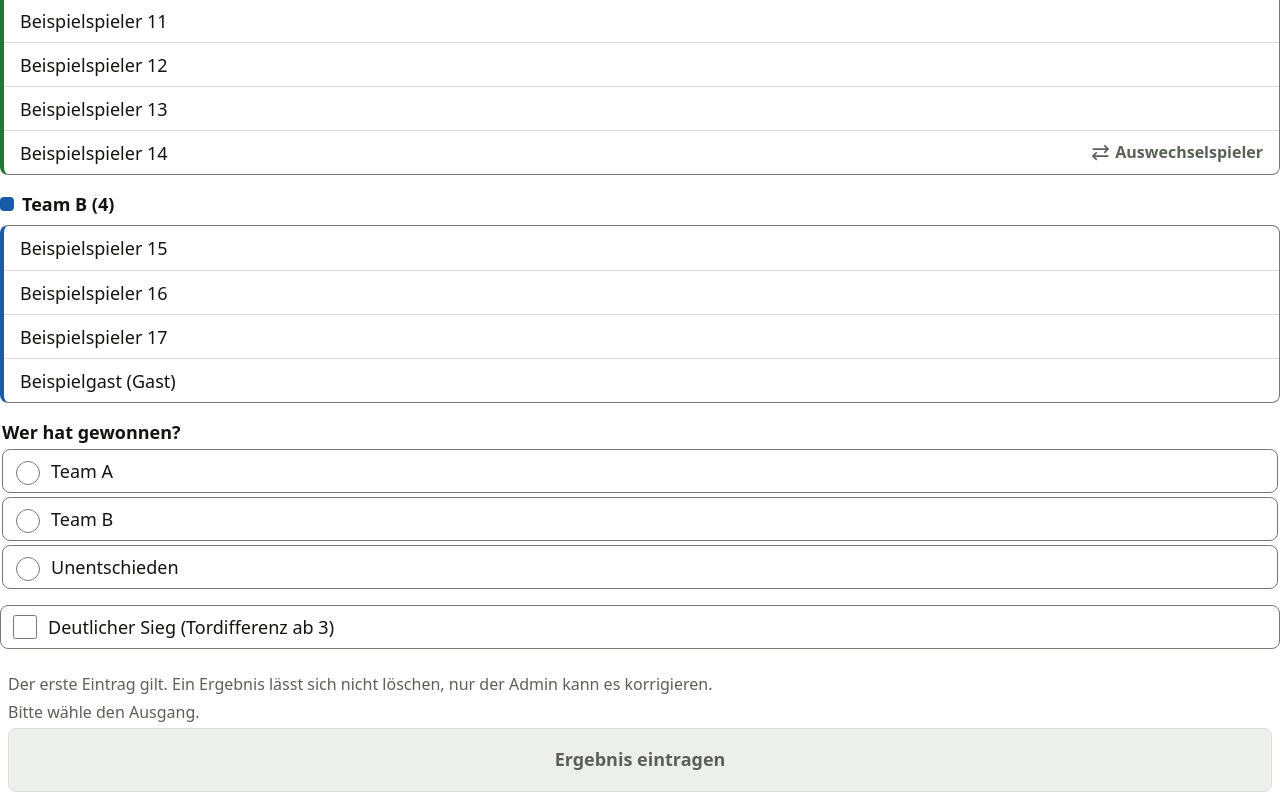
Test: ErgebnisSeite: Eintragen › traegt ein, zeigt die Anzeige mit Hinweis, setzt den Fokus und aktualisiert die Bilanz
(page scrolled)
Click the radio button with test id "ergebnis-sieger-a" at (28, 473), box [16,461,40,485]
(page scrolled)
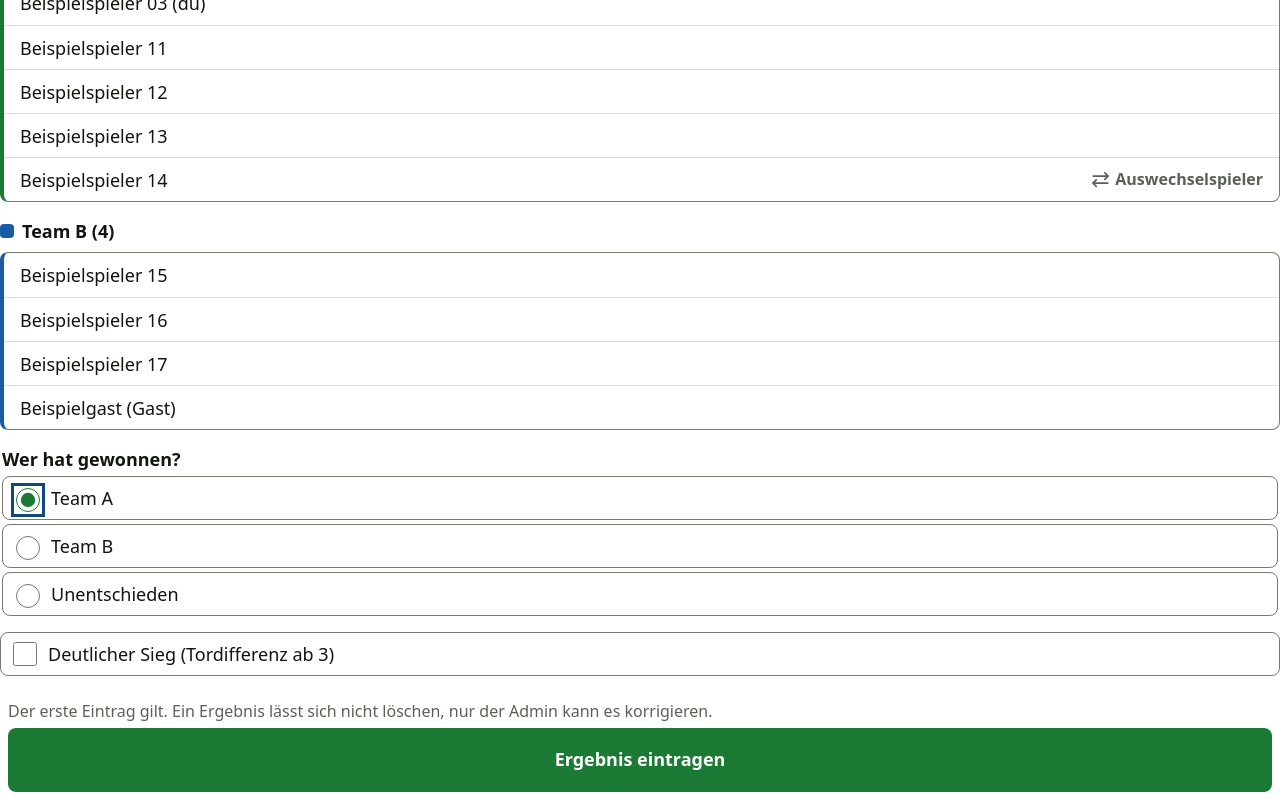
Click the button with test id "ergebnis-absenden" at (640, 760), box [8,728,1272,792]
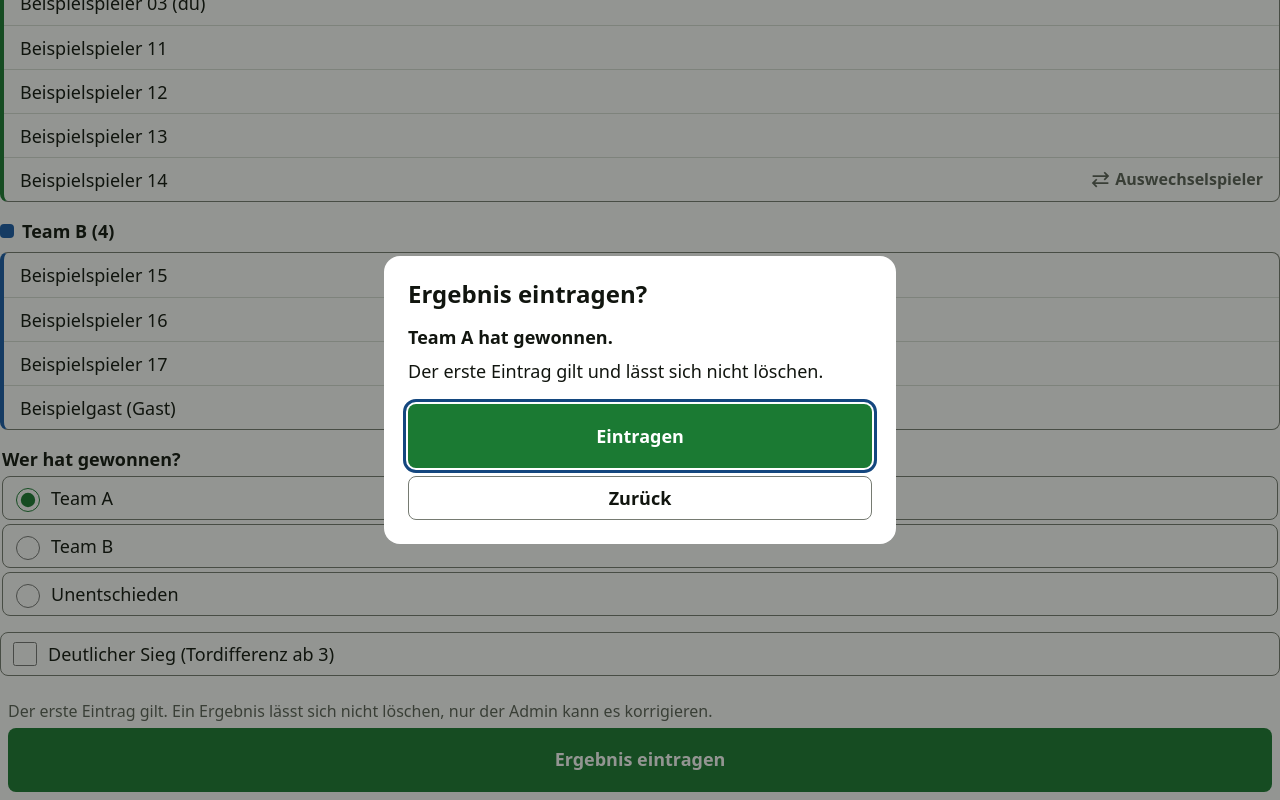
Click the button with test id "ergebnis-bestaetigen" at (640, 436), box [408,404,872,468]
(page scrolled)
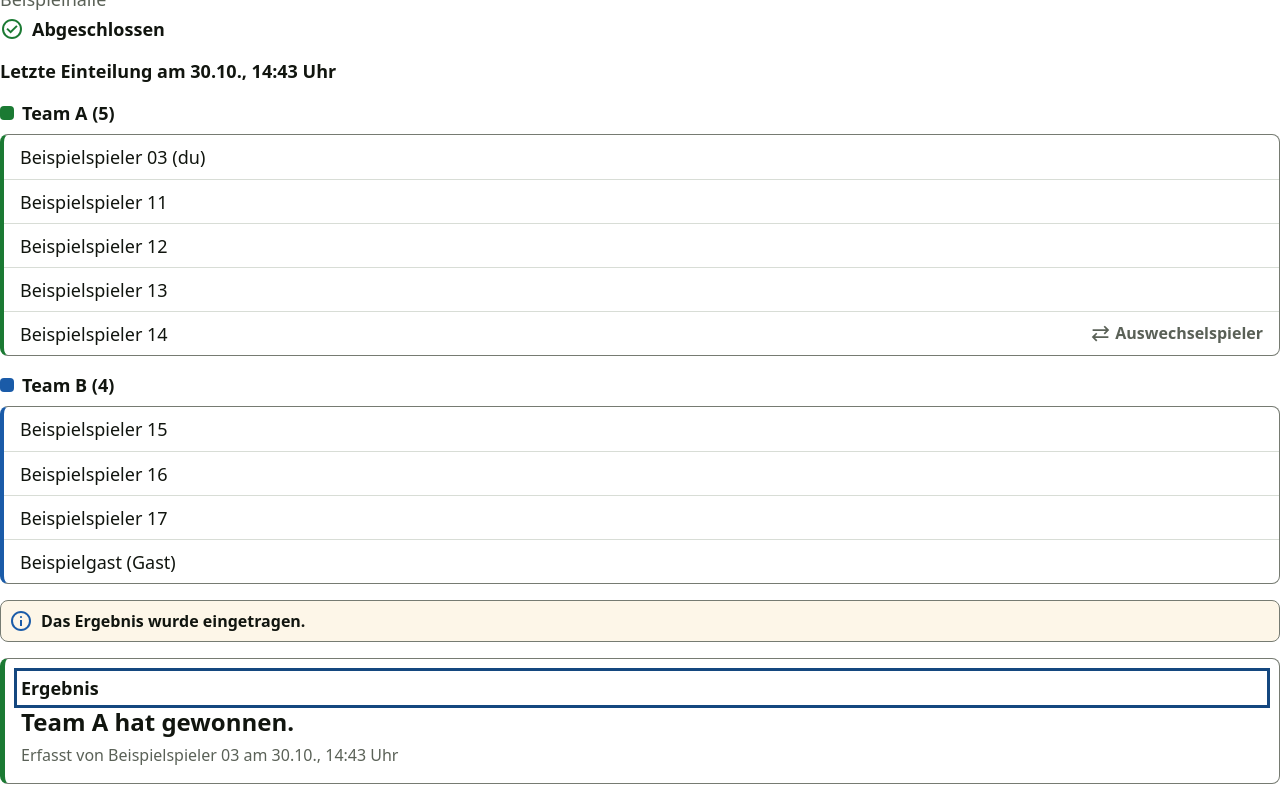
Now the text with test id "ergebnis-anzeige-satz" reads "Team A hat gewonnen.", box [21,705,294,738]
Now the message with test id "ergebnis-erfasst" reads "Das Ergebnis wurde eingetragen.", box [41,610,305,632]
Now the element with test id "ergebnis-formular" is gone
